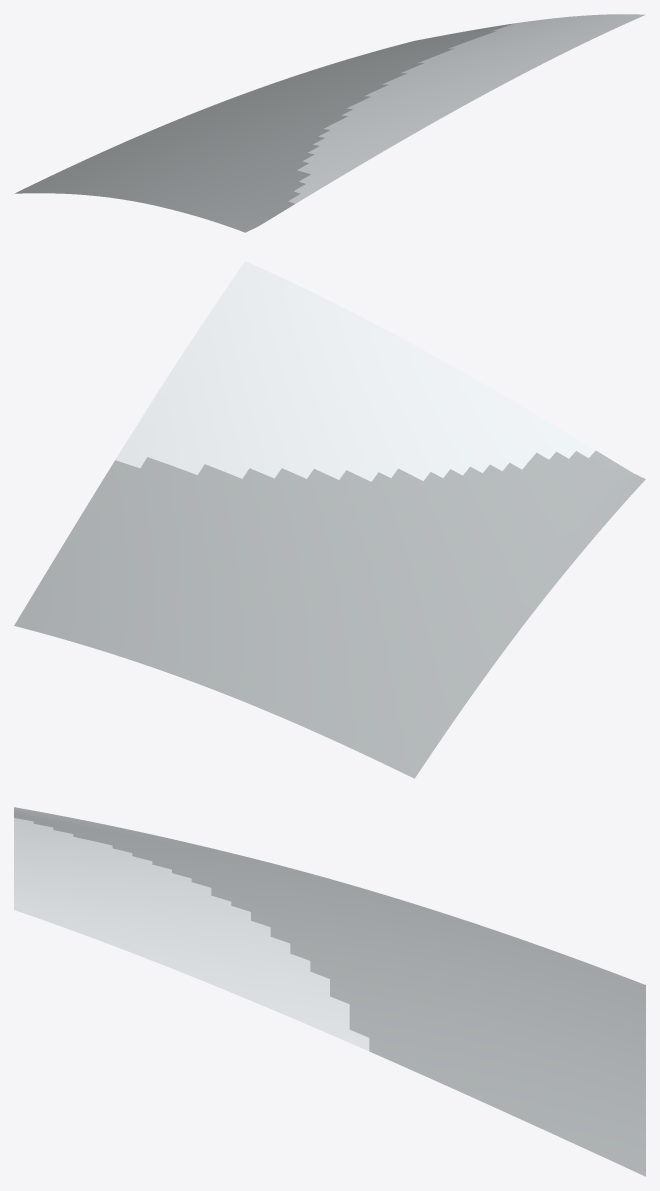
The model's file is alpine-13-8.glb.
3 views of the same model, one above another, from view 1: azimuth 30°, elevation 25°; view 2: azimuth 150°, elevation 25°; view 3: azimuth 270°, elevation 25° (orthographic). The views are drawn at different scales.
Visible parts, largest first — view 1: alpine-13-8; view 2: alpine-13-8; view 3: alpine-13-8.
Part boxes in pixels (x1=…): alpine-13-8: x1=15, y1=14, x2=645, y2=232; alpine-13-8: x1=14, y1=261, x2=645, y2=778; alpine-13-8: x1=14, y1=807, x2=645, y2=1176.
Bounding box in the file's own units: 256 × 153 × 256.
2 materials, 2 textured.
